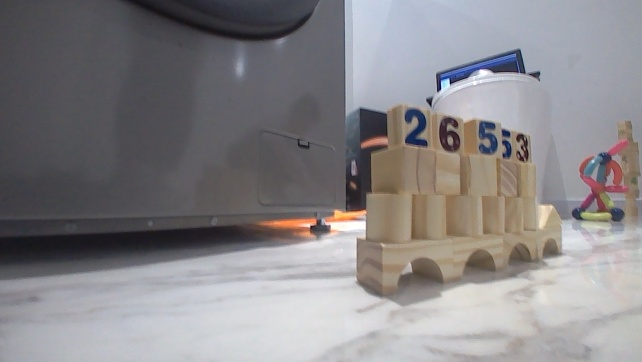plastic_toy: (350, 101, 567, 296), (568, 120, 630, 223), (612, 120, 642, 218)
toilet: (428, 68, 556, 205)
washing_machine1: (0, 0, 350, 239)
